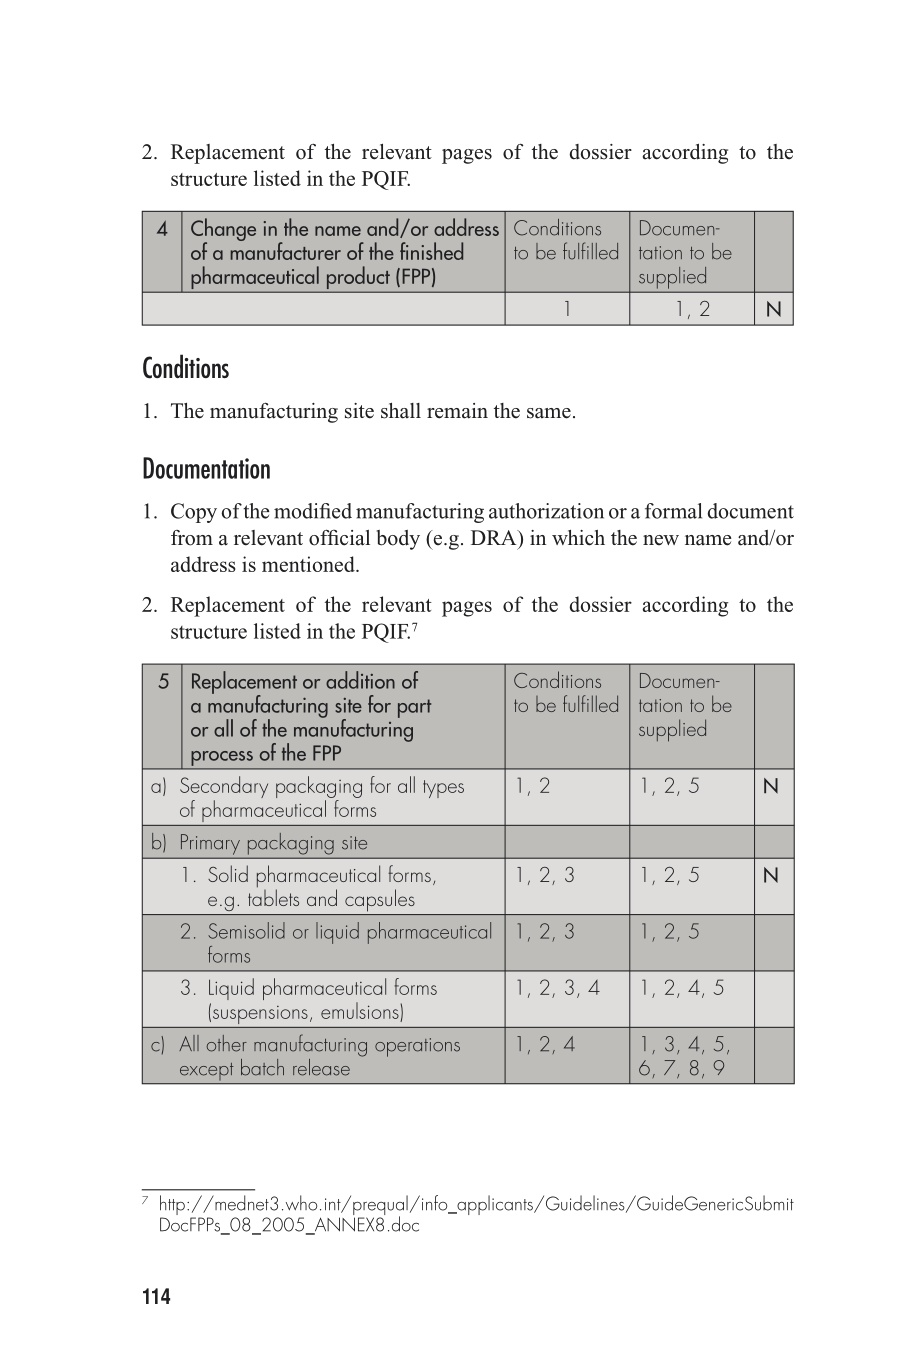merged_cells: (141, 662, 796, 1085), (140, 209, 794, 326)
